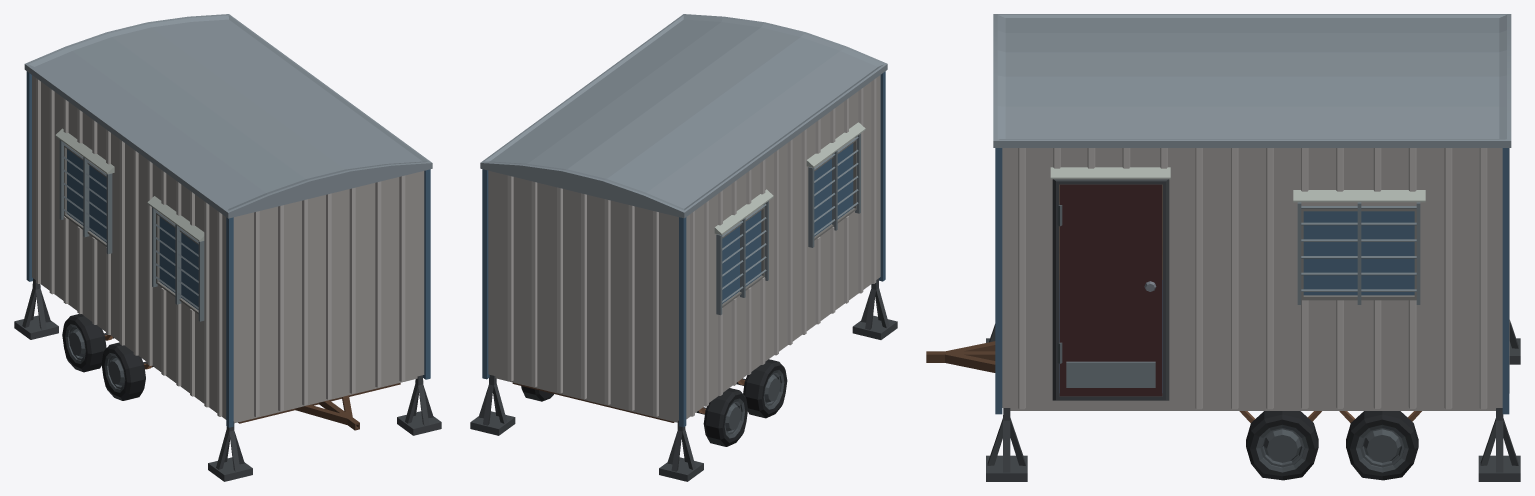
The model's file is SM_Bld_Portable_Office_02.fbx.
3 renders of one model, left to right at view 1: azimuth 30°, elevation 25°; view 2: azimuth 150°, elevation 25°; view 3: azimuth 270°, elevation 25°, orthographic. The views are drawn at different scales.
Parts seen in each view (by area): view 1: SM_Bld_Portable_Office_02, SM_Bld_Portable_Office_Glass_02; view 2: SM_Bld_Portable_Office_02, SM_Bld_Portable_Office_Glass_02; view 3: SM_Bld_Portable_Office_02, SM_Bld_Portable_Office_Door_02, SM_Bld_Portable_Office_Glass_02.
Part boxes in pixels (x1,y1,x2,y2): SM_Bld_Portable_Office_02: (14, 14, 441, 481); SM_Bld_Portable_Office_Glass_02: (67, 149, 198, 309); SM_Bld_Portable_Office_02: (470, 14, 897, 481); SM_Bld_Portable_Office_Glass_02: (722, 143, 853, 303); SM_Bld_Portable_Office_02: (926, 14, 1520, 481); SM_Bld_Portable_Office_Door_02: (1059, 184, 1162, 396); SM_Bld_Portable_Office_Glass_02: (1303, 211, 1414, 295).
Size of the model in its own units: 305 by 374 by 567.
